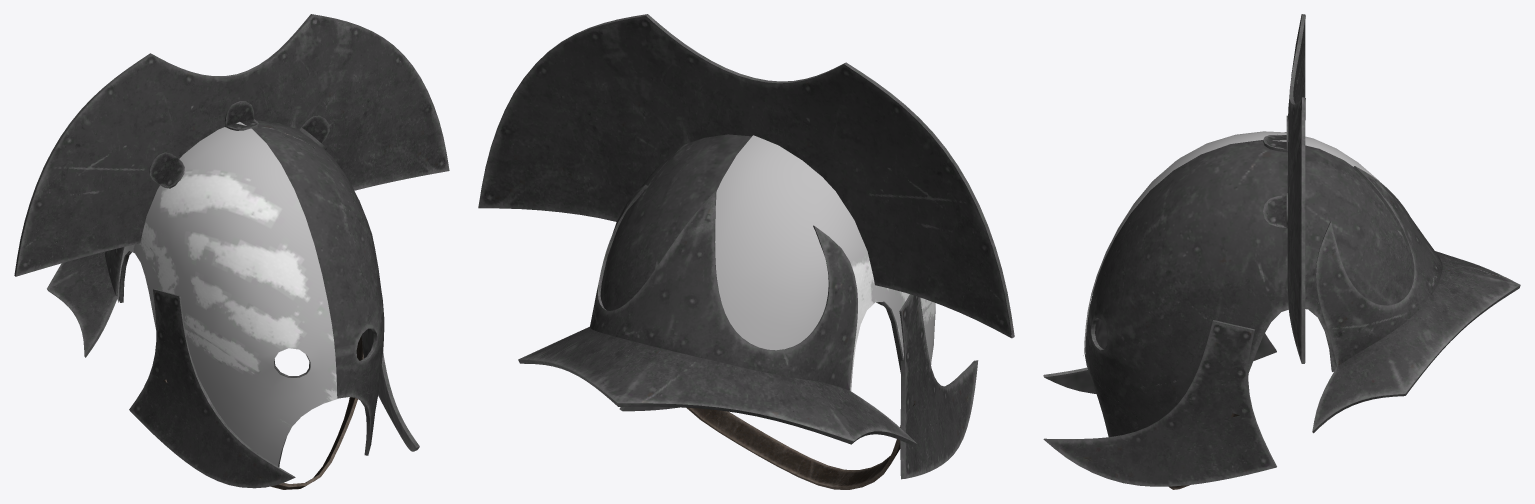
Rendered from sk_uruk_hai_helmet_officer_a3.fbx.
3 views of the same model, side by side, from view 1: azimuth 30°, elevation 25°; view 2: azimuth 150°, elevation 25°; view 3: azimuth 270°, elevation 25° (orthographic). The views are drawn at different scales.
Visible parts, largest first — view 1: sk_uruk_hai_helmet_officer_a3.0, sk_uruk_hai_helmet_officer_a3.1, sk_uruk_hai_helmet_officer_a3.2; view 2: sk_uruk_hai_helmet_officer_a3.0, sk_uruk_hai_helmet_officer_a3.1, sk_uruk_hai_helmet_officer_a3.2; view 3: sk_uruk_hai_helmet_officer_a3.0, sk_uruk_hai_helmet_officer_a3.1.
Part boxes in pixels (left/top/right/bottom): sk_uruk_hai_helmet_officer_a3.0: left=14, top=14, right=449, bottom=488; sk_uruk_hai_helmet_officer_a3.1: left=117, top=122, right=337, bottom=466; sk_uruk_hai_helmet_officer_a3.2: left=163, top=336, right=363, bottom=489; sk_uruk_hai_helmet_officer_a3.0: left=478, top=14, right=1014, bottom=479; sk_uruk_hai_helmet_officer_a3.1: left=715, top=135, right=935, bottom=390; sk_uruk_hai_helmet_officer_a3.2: left=686, top=401, right=915, bottom=489; sk_uruk_hai_helmet_officer_a3.0: left=1043, top=14, right=1520, bottom=486; sk_uruk_hai_helmet_officer_a3.1: left=1083, top=131, right=1379, bottom=355.
Size of the model in its own units: 0.4049 by 0.3704 by 0.3656.
Materials: 3 (3 with a texture image).
